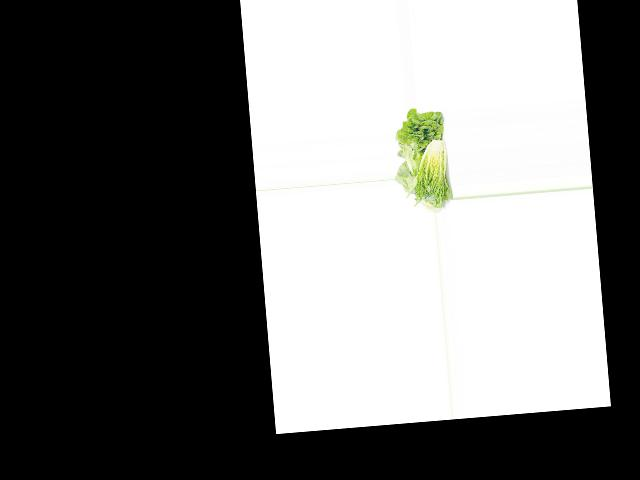lettuce: (393, 107, 451, 173)
